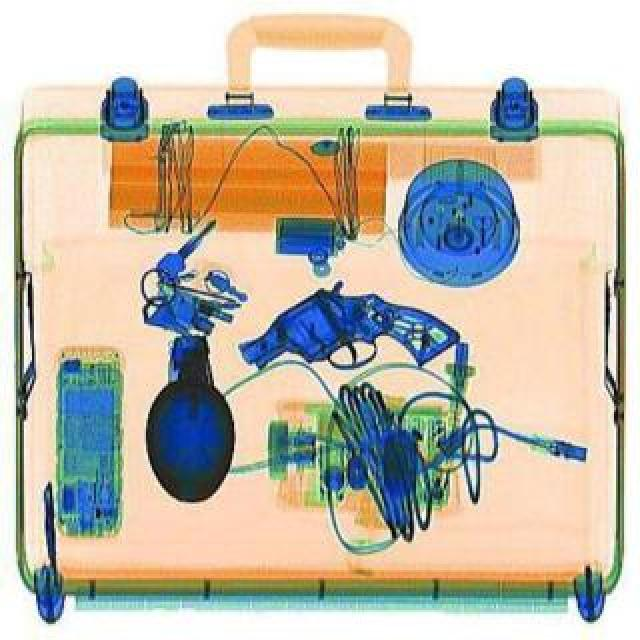gun: (236, 280, 462, 370)
